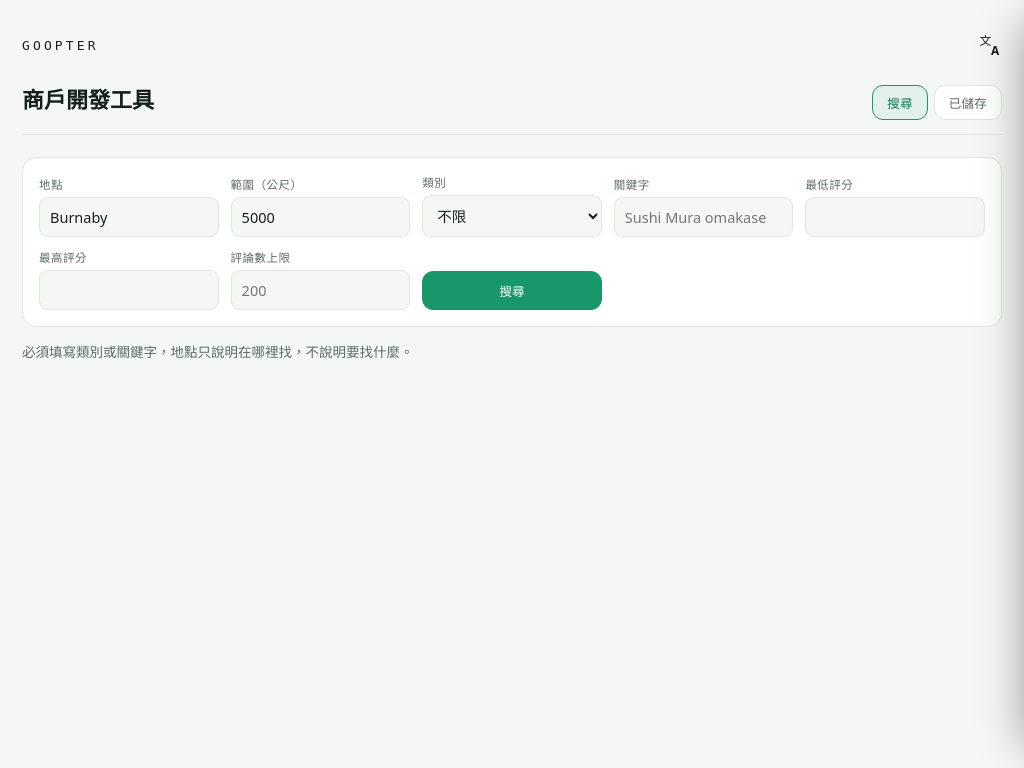
zh-Hant › translates the results table and its actions
The width and height of the screenshot is (1024, 768).
In the field labelled "關鍵字": {"x": 704, "y": 217} [614,197,793,237], type "sushi"
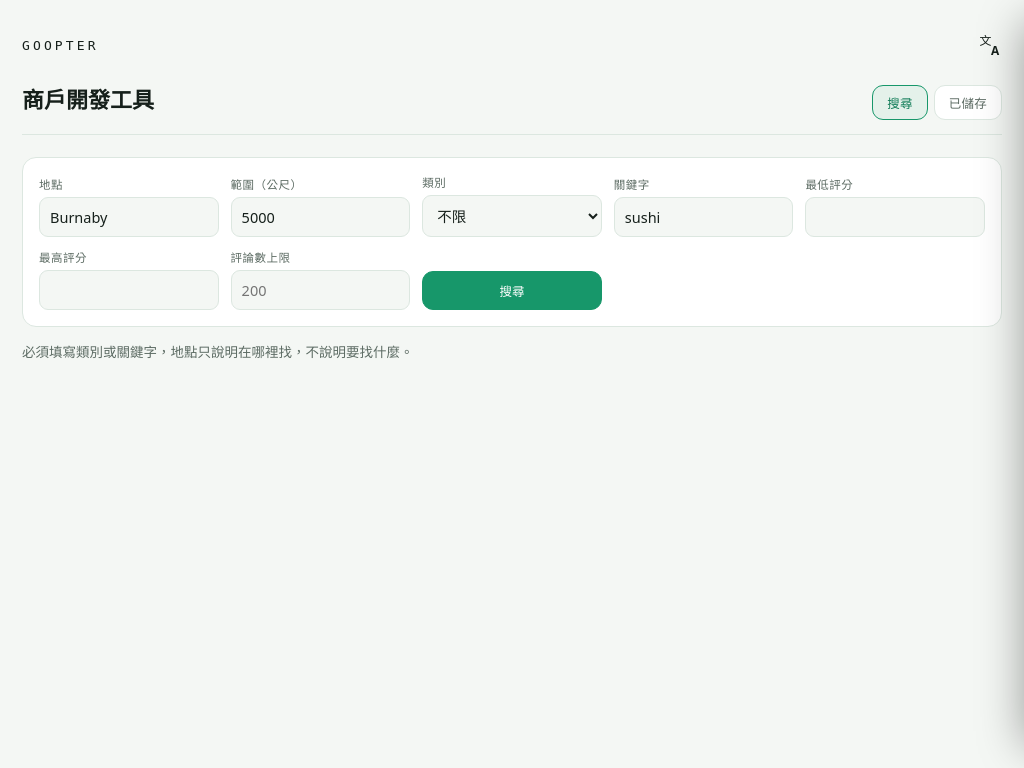
Click the button "搜尋": {"x": 512, "y": 290} [422,271,602,310]
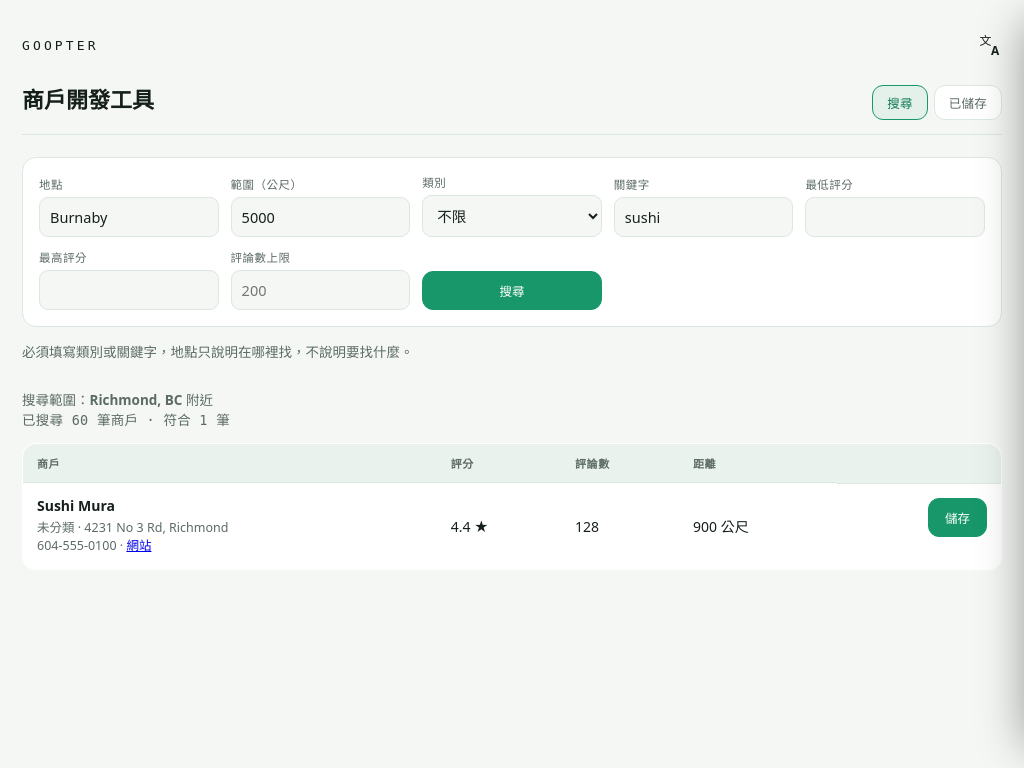
Check: the column heading "商戶" is shown, box [22,444,437,482]
Check: the column heading "評分" is shown, box [437,444,561,482]
Check: the column heading "評論數" is shown, box [561,444,679,482]
